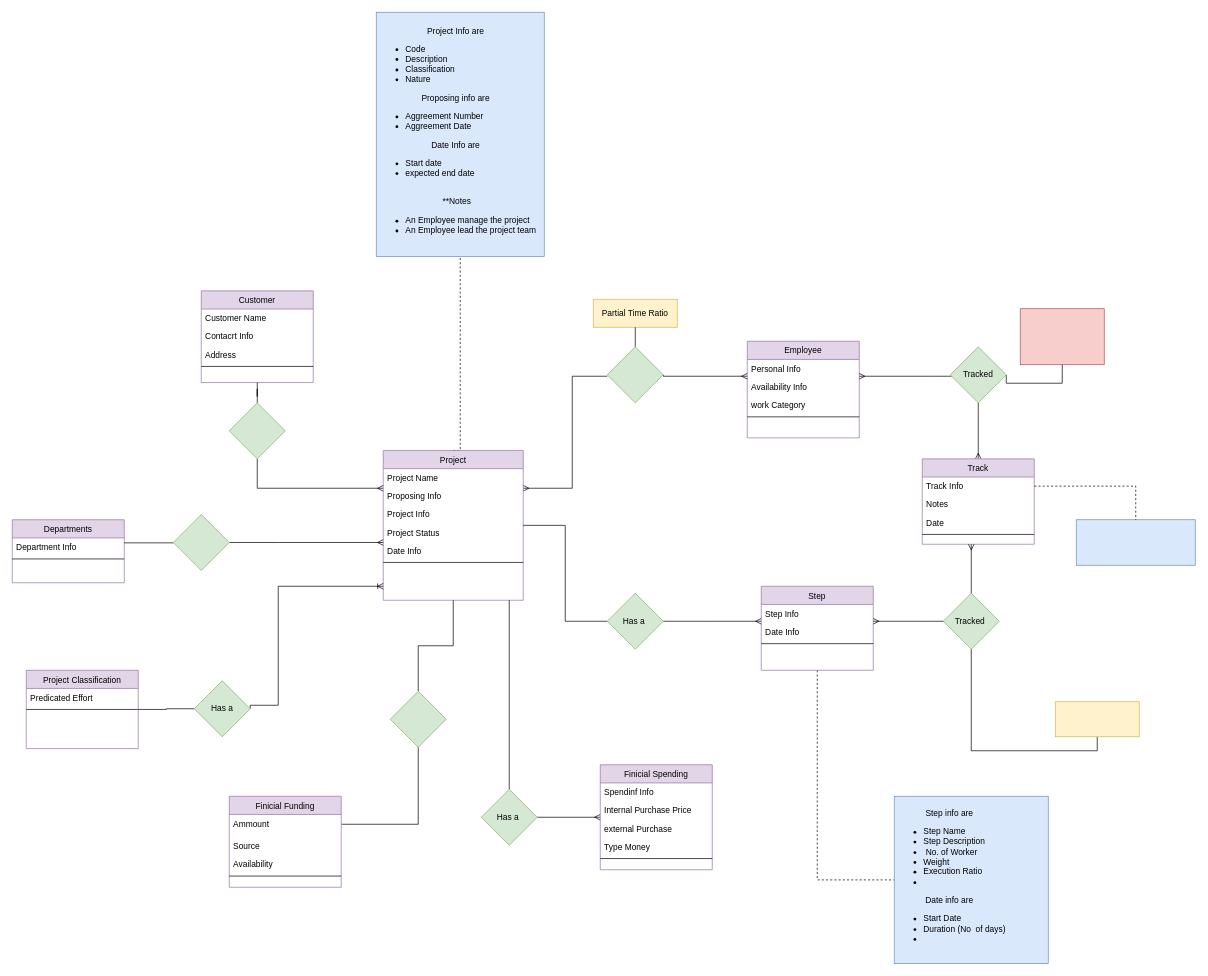
The diagram is 1208 pixels wide and 976 high, and some of its shapes have lost their labels. Here are the shapes that lost their labels. From the top down, the centre of each, then its label:
the point at 1062,336: Working Hours Note Assigned Works Performed Wokrs Date to ends its work
the point at 635,374: Participate
the point at 257,430: Propose
the point at 201,542: Execute a
the point at 1135,542: We calculate the tracks in a specified quarter
the point at 418,719: Fund a
the point at 1097,719: Completion Ratio Note
